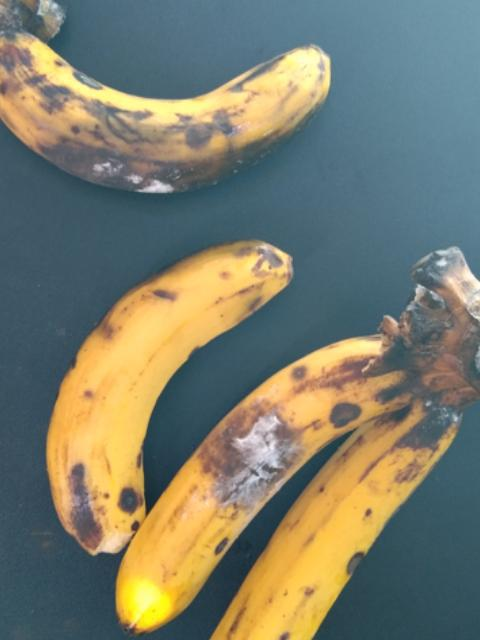overripe: (92, 342, 403, 629), (35, 235, 297, 561), (215, 398, 457, 639)
rotten: (0, 0, 355, 217)
